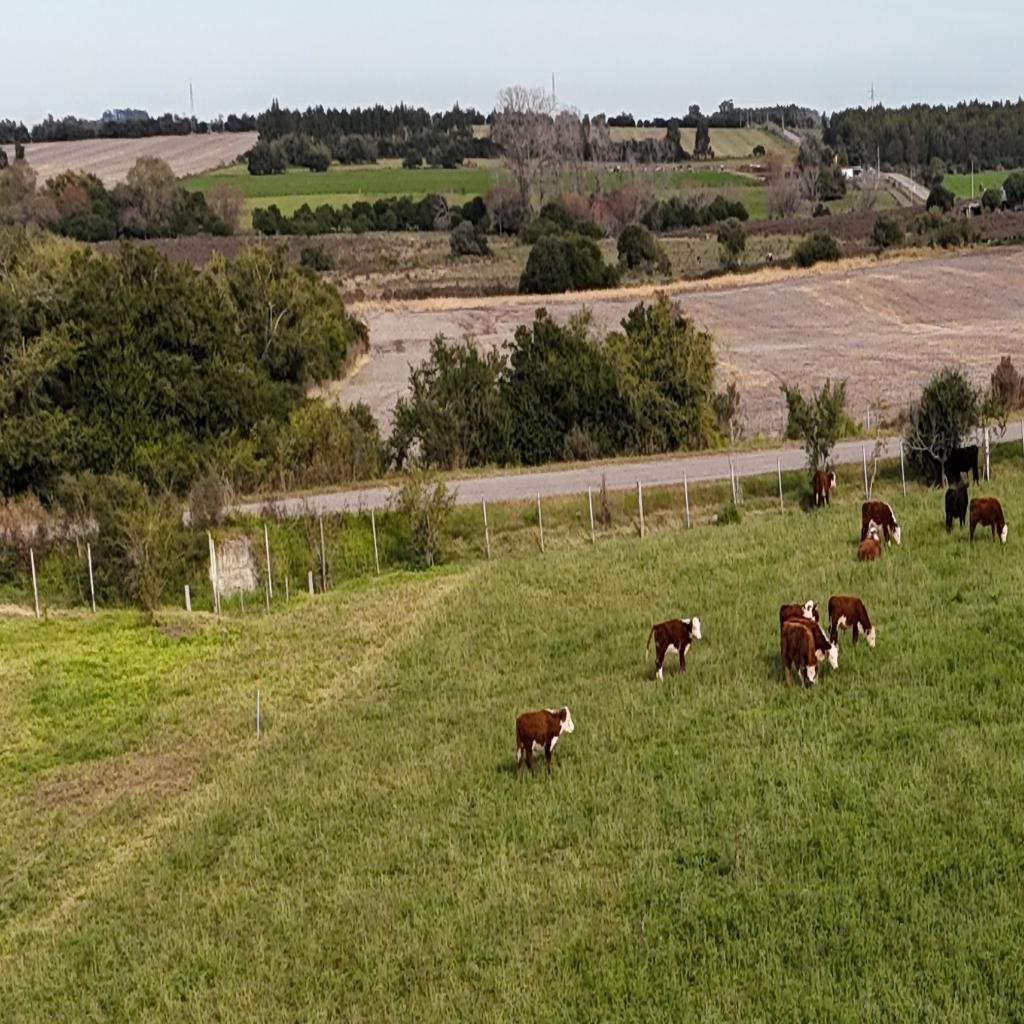cow: (515, 704, 574, 776), (780, 616, 836, 689), (645, 616, 700, 680), (827, 594, 877, 650), (854, 498, 902, 546), (969, 497, 1009, 545), (941, 443, 981, 489), (778, 601, 820, 640), (943, 477, 969, 533), (812, 468, 836, 510), (855, 528, 882, 562)
